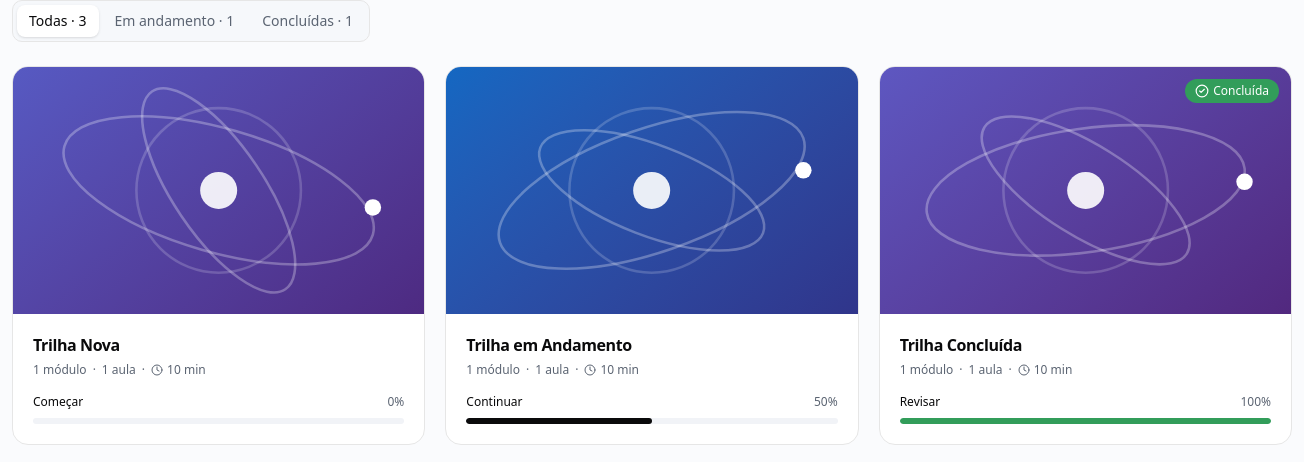
Test case: ClientCourses › narrows the wall to what is still open
The width and height of the screenshot is (1304, 462).
Click the tab "Em andamento · 1". click: (174, 21)
box: 102,5 -> 246,37
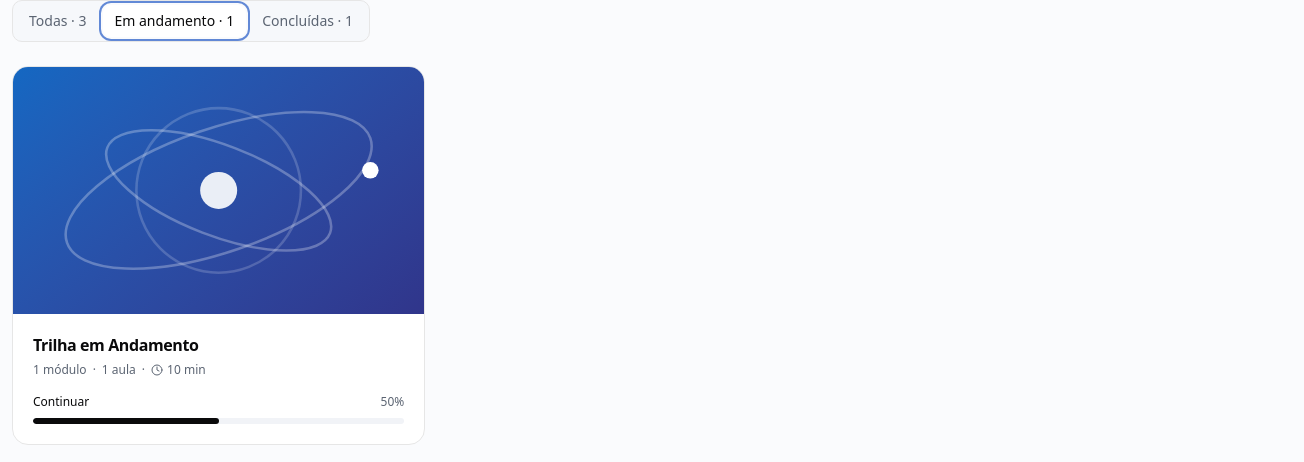
Check: the heading "Trilha em Andamento" is shown, box 33,334 -> 198,356
Check: the link "Trilha Nova" is gone
Check: the link "Trilha Concluída" is gone
